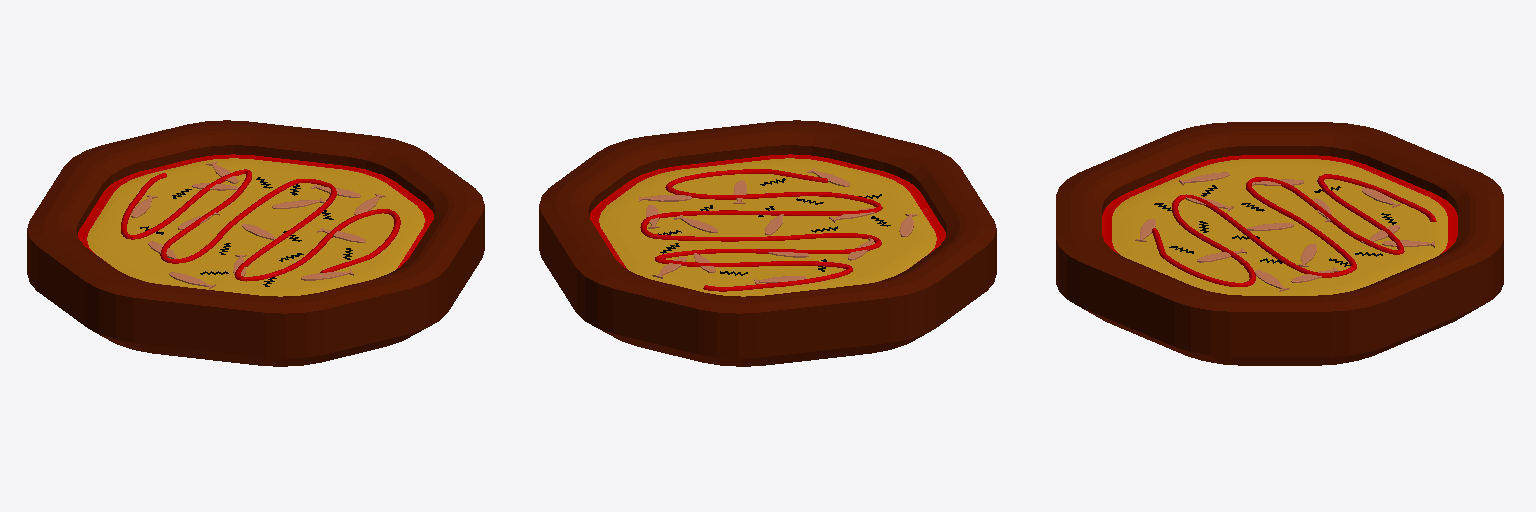
File: Seafood Pizza.obj
3 views of the same model, side by side, from view 1: azimuth 30°, elevation 25°; view 2: azimuth 150°, elevation 25°; view 3: azimuth 270°, elevation 25° (orthographic).
Parts seen in each view (by area): view 1: Seafood_Pizza_Cube.010; view 2: Seafood_Pizza_Cube.010; view 3: Seafood_Pizza_Cube.010.
Boxes of the visible parts, x1=… form: Seafood_Pizza_Cube.010: x1=27, y1=120, x2=484, y2=366; Seafood_Pizza_Cube.010: x1=539, y1=120, x2=996, y2=366; Seafood_Pizza_Cube.010: x1=1056, y1=122, x2=1503, y2=365.
Size of the model in its own units: 2 by 0.4132 by 2.